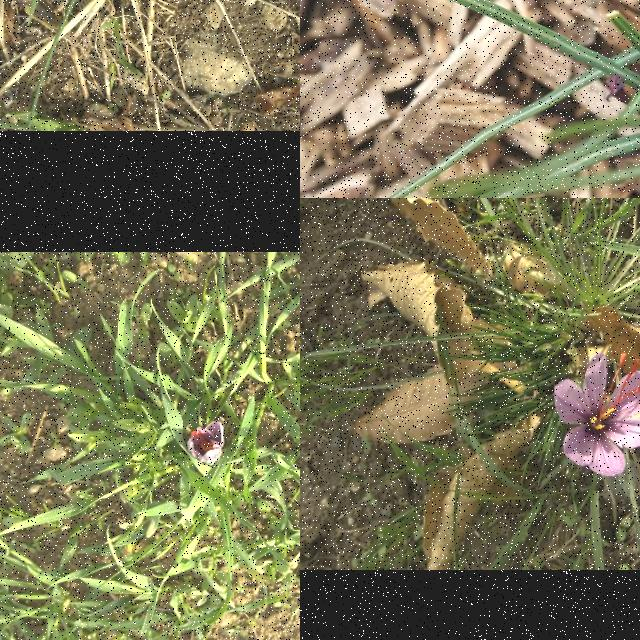flower: (554, 352, 640, 477), (187, 420, 225, 466)
